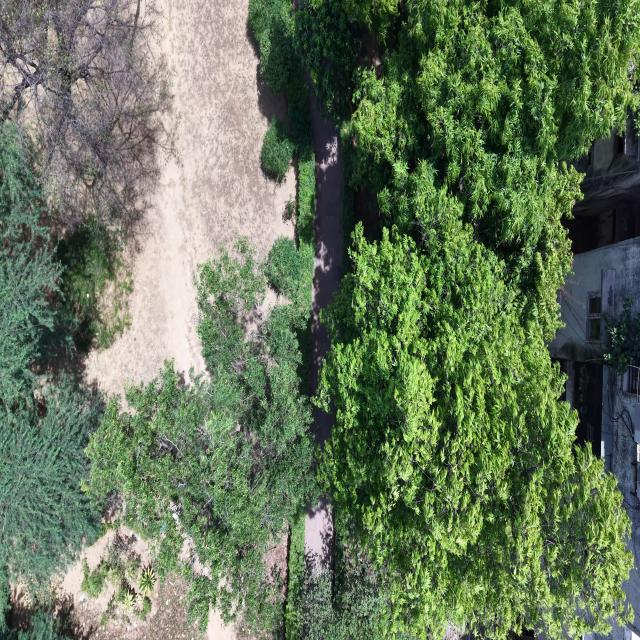DRY_AREA: (84, 0, 295, 394), (55, 526, 236, 639), (54, 527, 234, 639), (60, 560, 204, 639), (309, 96, 343, 392), (310, 97, 343, 392)
VEGETATION_TREE: (0, 0, 639, 639), (306, 0, 638, 637), (86, 5, 316, 633), (321, 209, 632, 637), (100, 56, 316, 630), (0, 0, 170, 599), (348, 0, 637, 336), (351, 3, 634, 337), (0, 3, 148, 637), (86, 240, 316, 632), (2, 92, 150, 589), (304, 0, 636, 199), (0, 0, 173, 351), (0, 124, 101, 593), (0, 0, 171, 228), (250, 0, 357, 308), (249, 0, 315, 394), (0, 374, 102, 594), (249, 0, 315, 309), (0, 124, 61, 414), (249, 0, 315, 262), (249, 0, 363, 117), (287, 536, 387, 639), (57, 220, 133, 352), (295, 0, 364, 119), (264, 237, 313, 395), (81, 531, 156, 626), (326, 536, 386, 639), (287, 68, 315, 265), (249, 0, 299, 94), (264, 237, 312, 317), (602, 296, 639, 398), (0, 602, 86, 639), (265, 237, 310, 307), (605, 297, 639, 373), (285, 514, 305, 639), (340, 126, 355, 275), (261, 117, 293, 182), (0, 610, 68, 639), (81, 559, 108, 597), (0, 564, 13, 639), (139, 564, 156, 596)
